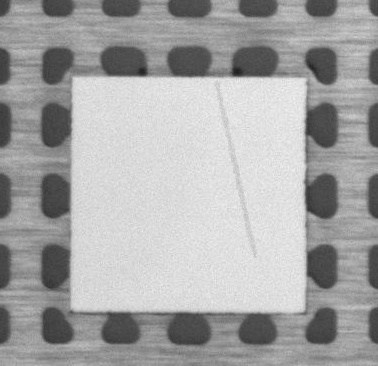DIE_CRACK: (224, 80, 263, 249)
